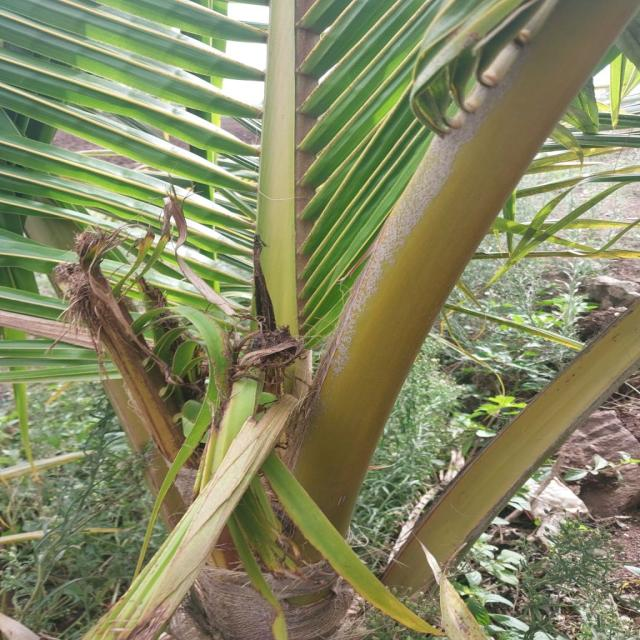bud rot: (68, 182, 315, 477), (240, 469, 305, 580)
